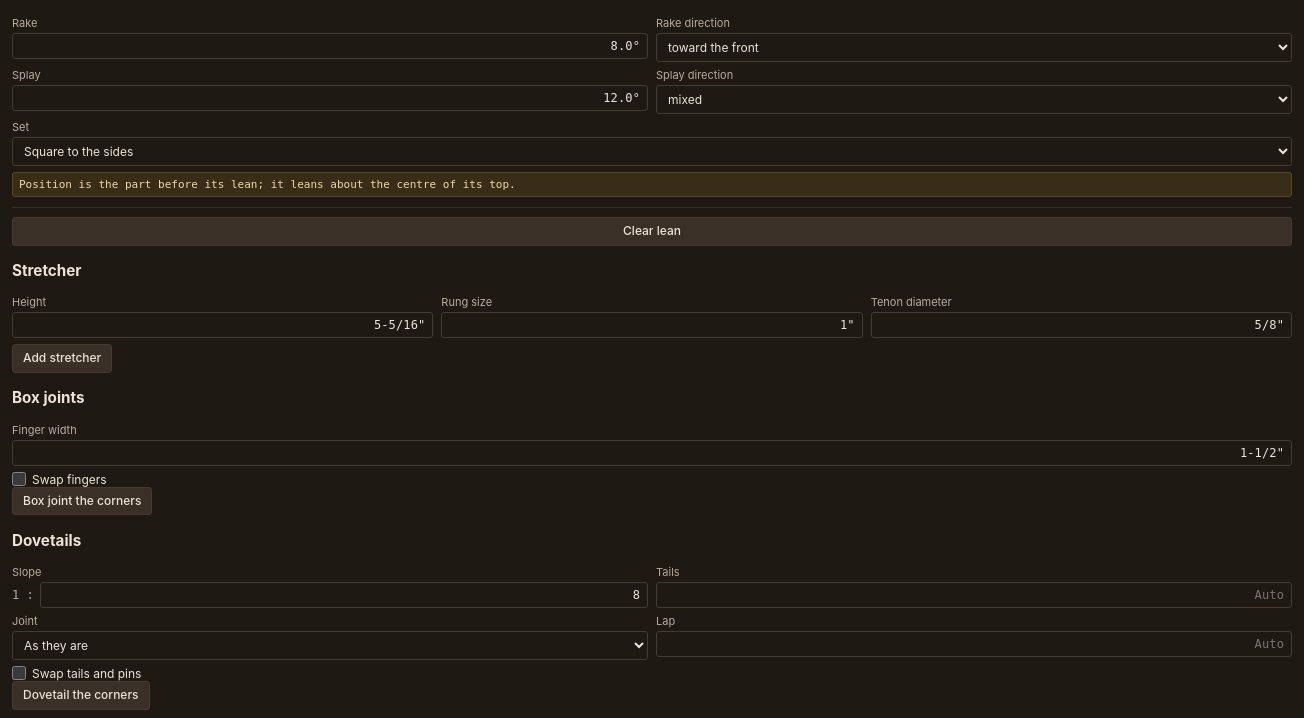
it: the Stretcher section (stretchers spec §4) › Add stretcher adds the rung at the fields' values, one undo entry, and selects it; its readout and link notes show
(page scrolled)
Click the button "Add stretcher".
click(62, 359)  # box left=12, top=344, right=112, bottom=373
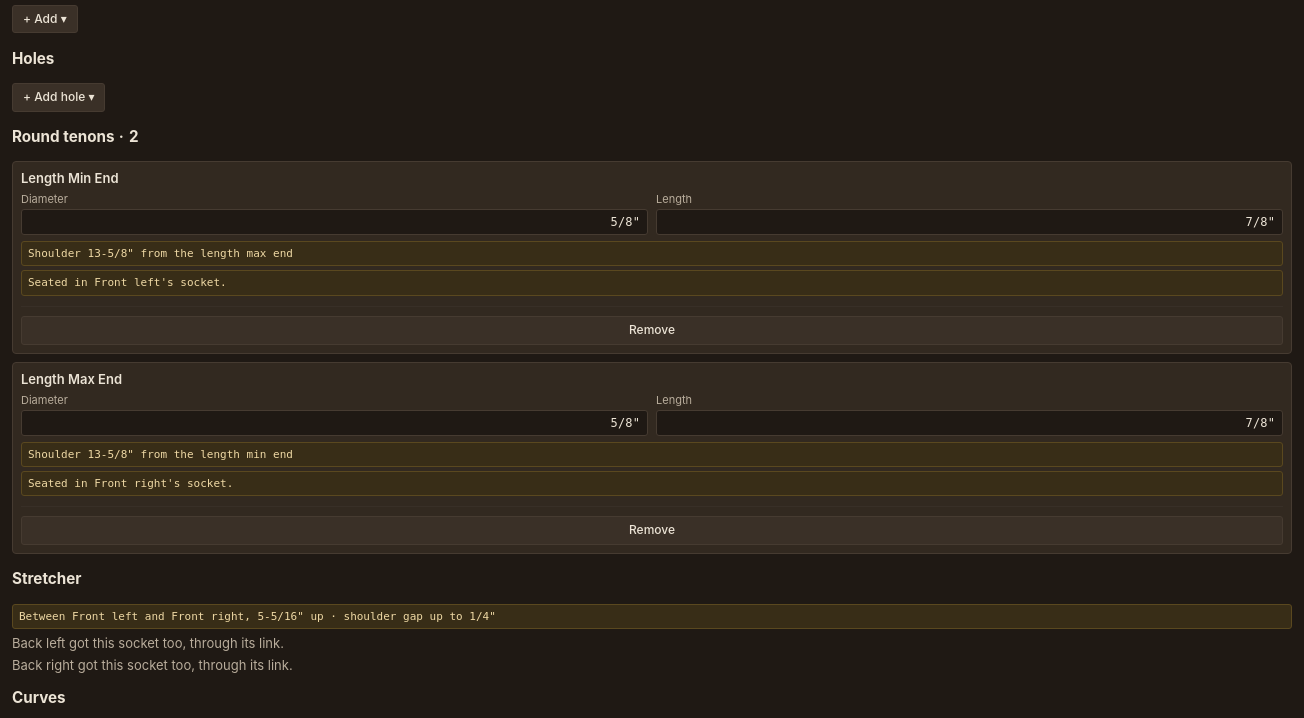
Result: the text "Between Front left and Front right, 5-5/16\" up · shoulder gap up to 1/4\"" is shown at left=12, top=604, right=1292, bottom=629
